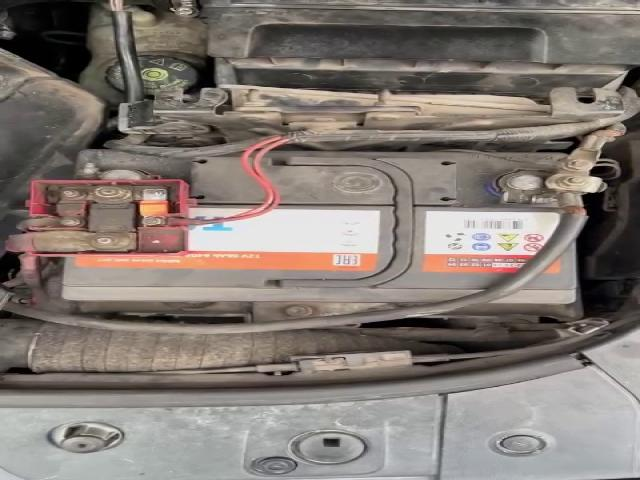accumulator: (16, 147, 589, 308)
